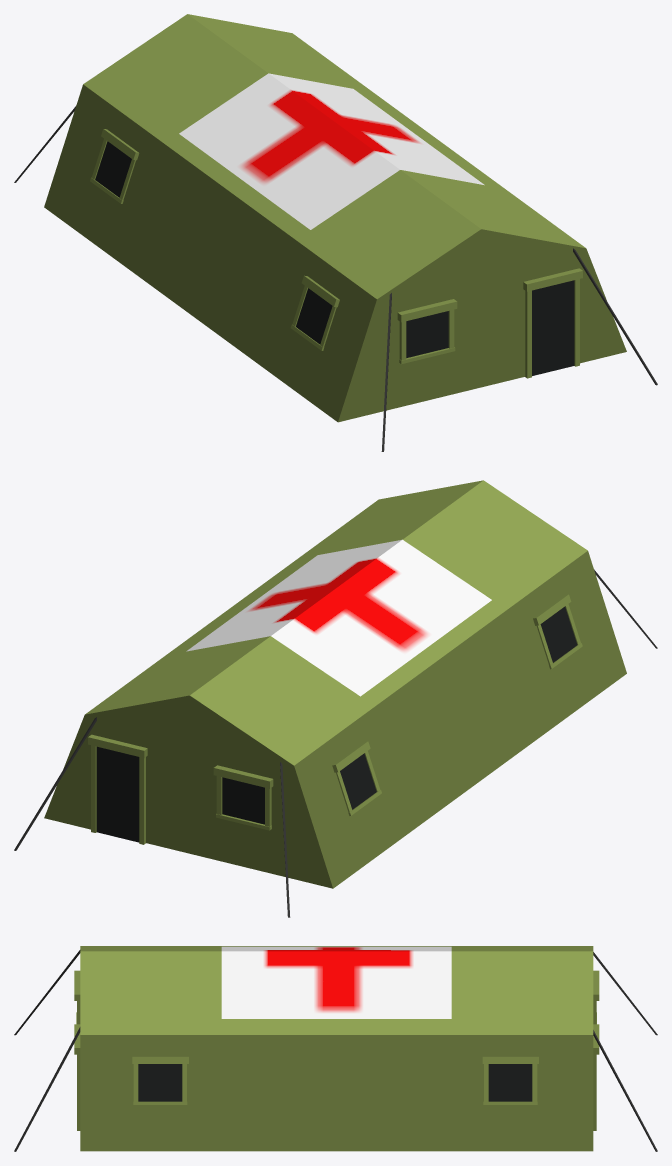
File: Medic_tant.FBX
3 views of the same model, one above another, from view 1: azimuth 30°, elevation 25°; view 2: azimuth 150°, elevation 25°; view 3: azimuth 270°, elevation 25° (orthographic). The views are drawn at different scales.
Visible parts, largest first — view 1: Medic_tant; view 2: Medic_tant; view 3: Medic_tant.
Boxes of the visible parts, left/top/right/bottom form: Medic_tant: left=14, top=14, right=657, bottom=451; Medic_tant: left=14, top=480, right=657, bottom=917; Medic_tant: left=14, top=946, right=657, bottom=1151.
Bounding box in the file's own units: 7.86 × 4.21 × 17.37.
Materials: 1 (1 with a texture image).
